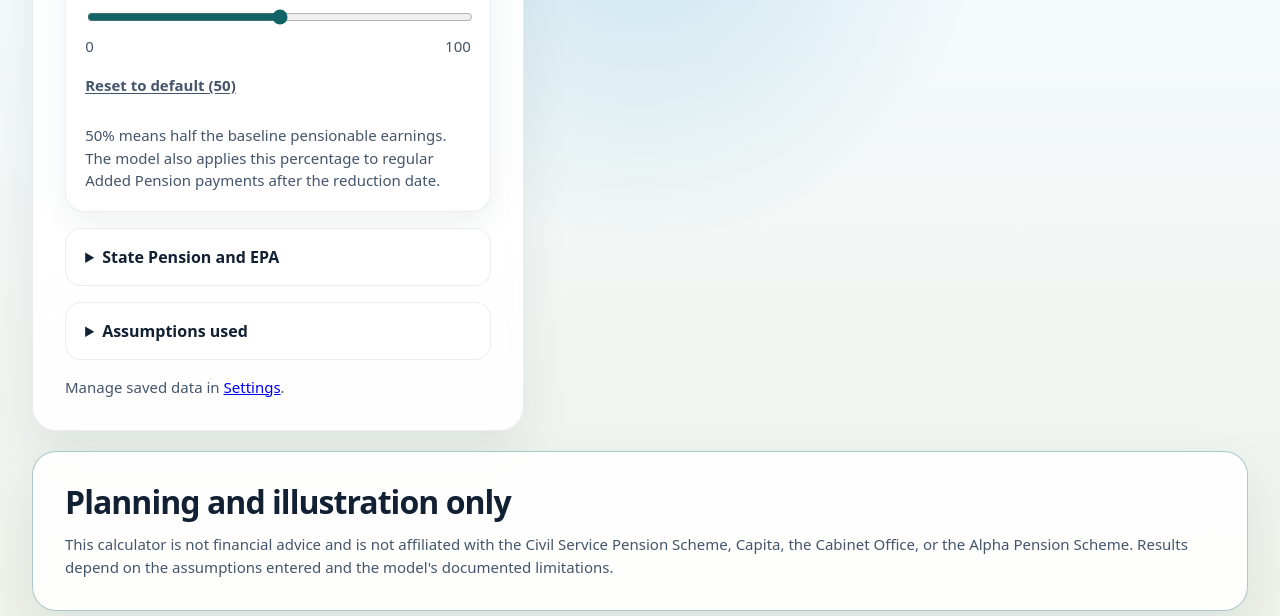
Test: Quick modeller journey › shows the exact derived State Pension date used by the worker
(page scrolled)
Click the heading "State Pension and EPA": (191, 257) [102,246,279,268]
(page scrolled)
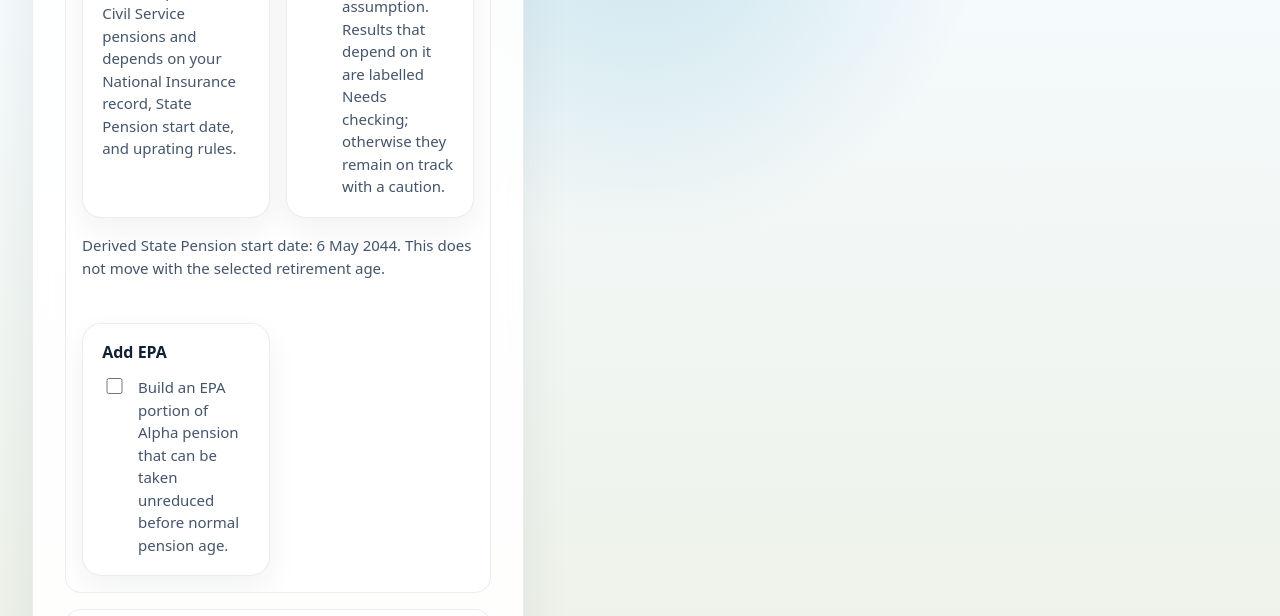
Expected: the text "Derived State Pension start date: 6 May 2044" is shown, [82,234,474,279]
